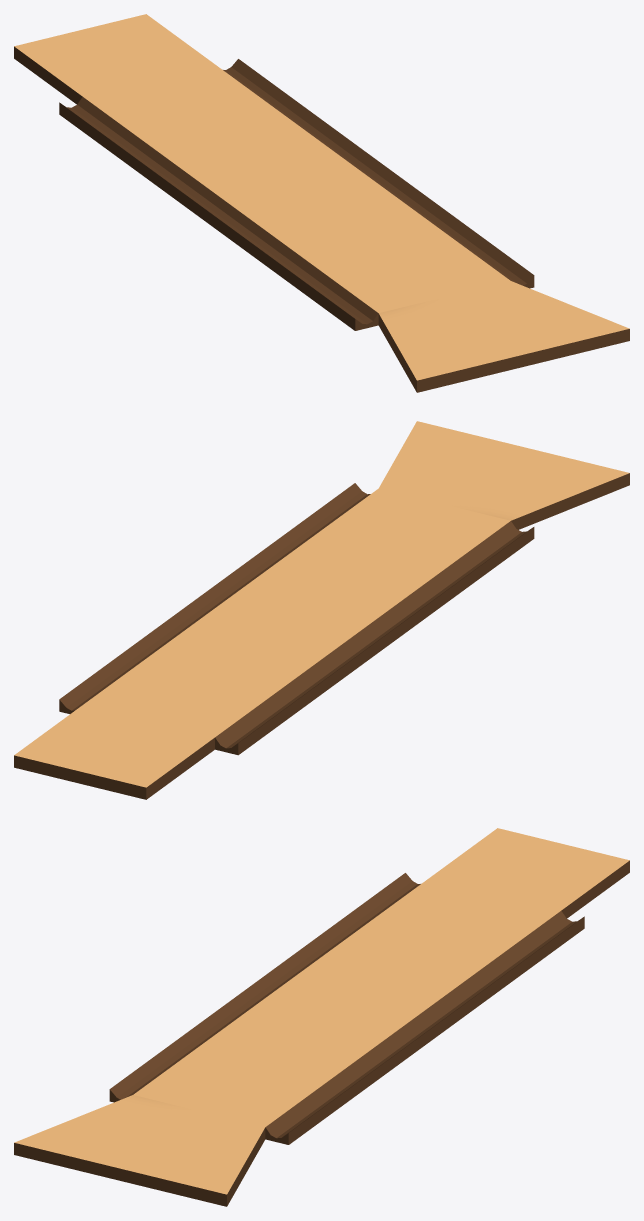
Rendered from bowlinglane.FBX.
3 views of the same model, one above another, from view 1: azimuth 30°, elevation 25°; view 2: azimuth 150°, elevation 25°; view 3: azimuth 330°, elevation 25° (orthographic).
Visible parts, largest first — view 1: Box001; view 2: Box001; view 3: Box001.
Boxes of the visible parts, <box> form: Box001: <box>14,14,629,392</box>; Box001: <box>14,421,629,799</box>; Box001: <box>14,828,629,1206</box>.
Bounding box in the file's own units: 152 × 8.35 × 548.
